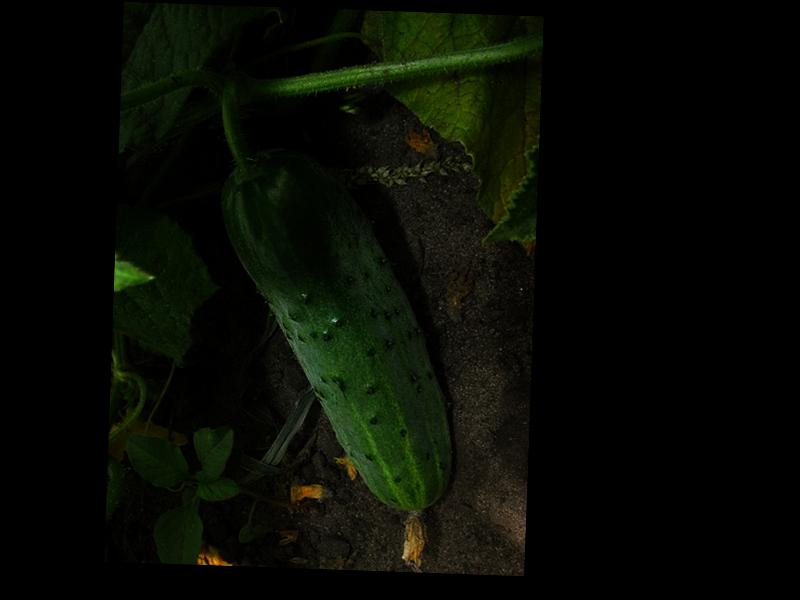Cucumber: (208, 146, 465, 568)
